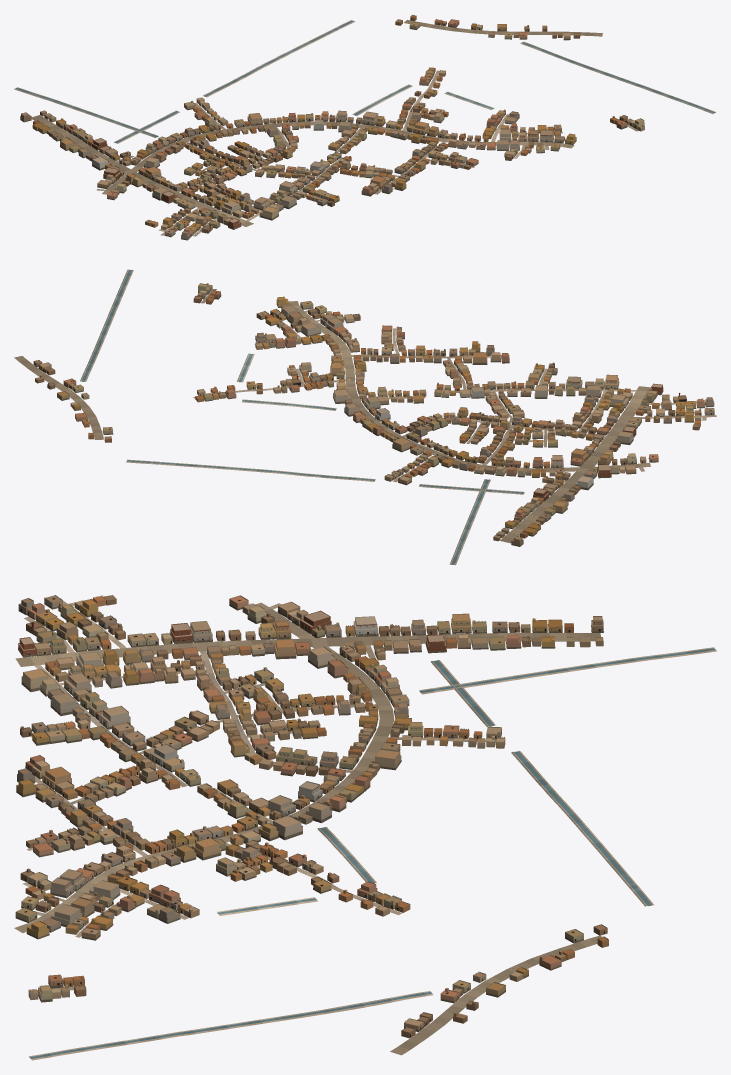
File: uruk_quarter_10.glb
3 views of the same model, one above another, from view 1: azimuth 30°, elevation 25°; view 2: azimuth 150°, elevation 25°; view 3: azimuth 270°, elevation 25° (orthographic). The views are drawn at different scales.
Visible parts, largest first — view 1: uruk_quarter_10; view 2: uruk_quarter_10; view 3: uruk_quarter_10.
Part boxes in pixels (<box>): uruk_quarter_10: <box>14,15,715,240</box>; uruk_quarter_10: <box>14,269,716,565</box>; uruk_quarter_10: <box>14,595,716,1060</box>.
Bounding box in the file's own units: 739 × 16.79 × 484.
16 materials, 5 textured.
